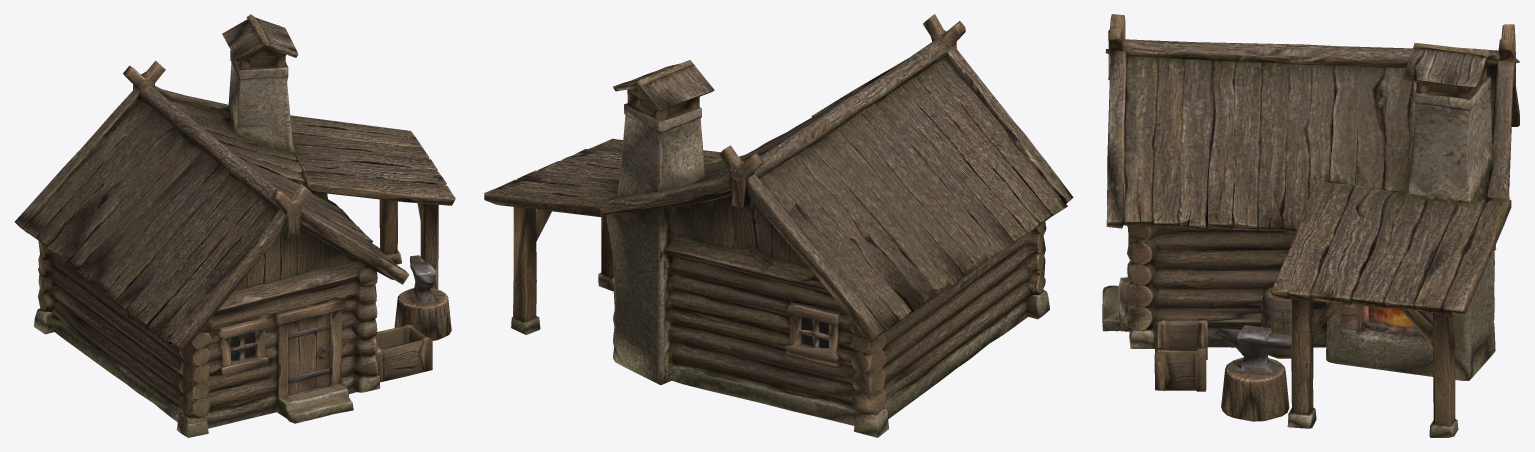
Rendered from blacksmith_forge_lod1.glb.
The picture shows the model from 3 angles, left to right: view 1: azimuth 30°, elevation 25°; view 2: azimuth 150°, elevation 25°; view 3: azimuth 270°, elevation 25°; orthographic projection. The views are drawn at different scales.
Visible parts, largest first — view 1: blacksmith_forge; view 2: blacksmith_forge; view 3: blacksmith_forge.
Part boxes in pixels (x1,y1,x2,y2): blacksmith_forge: (14,14,455,437); blacksmith_forge: (484,14,1073,437); blacksmith_forge: (1102,14,1519,437).
Bounding box in the file's own units: 1 × 0.6674 × 0.7971.
1 material, 1 textured.
